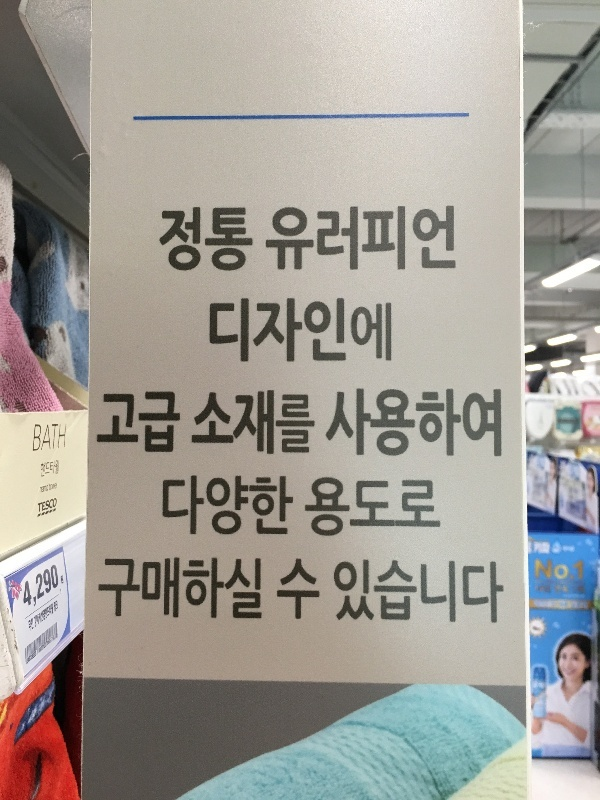text: (305, 554, 321, 623), (337, 388, 352, 460), (353, 388, 368, 460), (369, 388, 384, 460), (385, 388, 400, 460), (401, 388, 416, 460), (417, 388, 432, 460), (433, 388, 448, 460), (449, 388, 464, 460), (465, 388, 480, 460), (481, 388, 496, 460), (113, 555, 128, 626), (129, 555, 144, 626), (145, 555, 160, 626), (161, 555, 176, 626), (177, 555, 192, 626), (193, 555, 208, 626), (209, 555, 224, 626), (225, 555, 240, 626), (241, 555, 256, 626), (337, 557, 352, 627), (353, 557, 368, 627), (369, 557, 384, 627), (385, 557, 400, 627), (401, 557, 416, 627), (417, 557, 432, 627), (433, 557, 448, 627), (449, 557, 464, 627), (465, 557, 480, 627), (481, 557, 496, 627), (209, 390, 224, 460), (225, 390, 240, 460), (241, 390, 256, 460), (257, 390, 272, 460), (273, 390, 288, 460), (289, 390, 304, 460), (273, 204, 288, 274), (289, 204, 304, 274), (305, 204, 320, 274), (321, 204, 336, 274), (337, 204, 352, 274), (353, 204, 368, 274), (369, 204, 384, 274), (385, 204, 400, 274), (401, 204, 416, 274), (417, 204, 432, 274), (433, 204, 448, 274), (289, 554, 304, 623), (113, 388, 128, 457), (129, 388, 144, 457), (145, 388, 160, 457), (161, 388, 176, 457), (161, 206, 176, 275), (177, 206, 192, 275), (193, 206, 208, 275), (209, 206, 224, 275), (225, 206, 240, 275), (209, 297, 224, 363), (225, 297, 240, 363), (241, 297, 256, 363), (257, 297, 272, 363), (273, 297, 288, 363), (289, 297, 304, 363), (305, 297, 320, 363), (321, 297, 336, 363), (337, 297, 352, 363), (353, 297, 368, 363), (369, 297, 384, 363), (177, 473, 192, 538), (193, 473, 208, 538), (209, 473, 224, 538), (225, 473, 240, 538), (241, 473, 256, 538), (257, 473, 272, 538), (273, 473, 288, 538), (321, 476, 336, 540), (337, 476, 352, 540), (353, 476, 368, 540), (369, 476, 384, 540), (385, 476, 400, 540), (401, 476, 416, 540), (417, 476, 432, 540), (49, 559, 65, 616), (162, 473, 176, 538), (241, 206, 254, 275), (33, 559, 48, 616), (305, 390, 316, 460), (102, 555, 112, 626), (309, 476, 320, 540), (433, 476, 443, 540), (199, 390, 208, 460), (103, 388, 112, 457), (449, 204, 457, 274), (385, 297, 393, 363), (257, 555, 264, 626), (497, 557, 504, 627), (24, 559, 32, 616), (49, 423, 64, 452), (497, 388, 503, 460), (289, 473, 295, 538), (35, 423, 48, 452), (283, 554, 288, 623), (177, 388, 182, 457), (545, 560, 560, 580), (561, 560, 576, 580), (34, 609, 48, 629), (38, 631, 48, 656), (49, 631, 57, 656), (49, 460, 60, 478), (535, 560, 544, 580), (529, 542, 544, 554), (49, 481, 64, 492), (38, 497, 48, 513), (51, 603, 64, 615), (334, 557, 336, 627), (577, 560, 584, 580), (49, 497, 57, 513), (41, 460, 48, 478), (54, 601, 64, 613), (545, 585, 560, 593), (561, 585, 576, 593), (25, 650, 32, 667), (40, 483, 48, 494), (56, 600, 64, 610), (535, 585, 544, 593), (33, 650, 37, 667), (545, 542, 550, 554), (65, 423, 67, 452), (577, 585, 584, 593), (29, 617, 32, 632), (49, 604, 52, 617), (45, 608, 48, 620), (33, 617, 34, 632), (47, 604, 48, 617)
